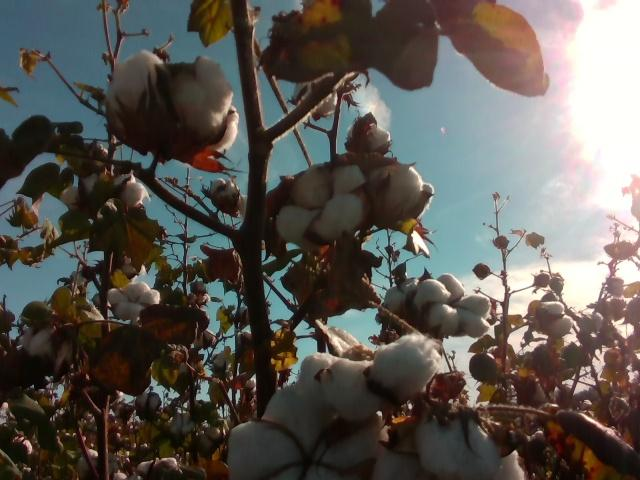cotton_ready: (107, 50, 240, 157), (227, 385, 376, 480), (299, 338, 441, 415), (374, 418, 527, 480), (275, 161, 365, 246), (415, 274, 491, 337), (368, 160, 434, 227), (21, 326, 76, 376), (79, 169, 146, 207), (107, 280, 161, 322), (374, 282, 416, 325), (294, 83, 339, 117), (346, 122, 390, 156), (532, 300, 572, 334)
